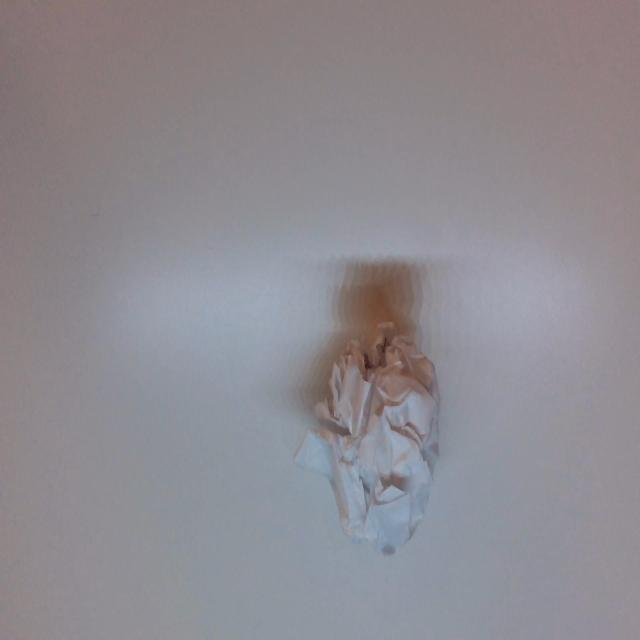Paper: (315, 308, 443, 565)
